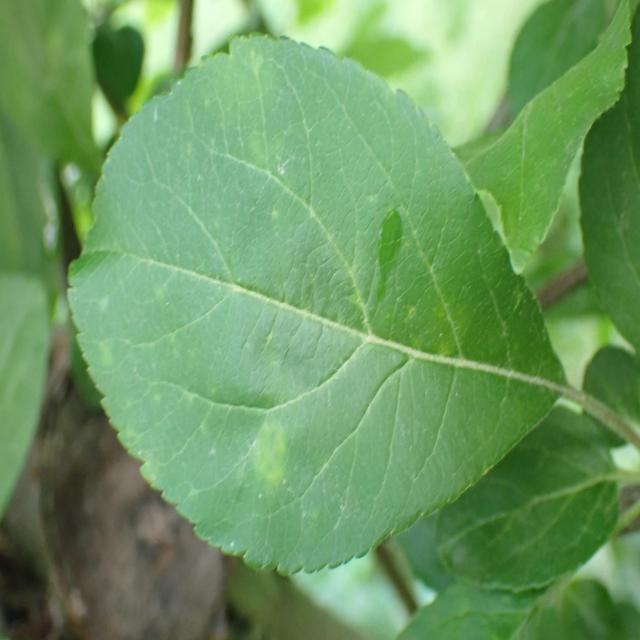scab: (70, 91, 375, 597)
